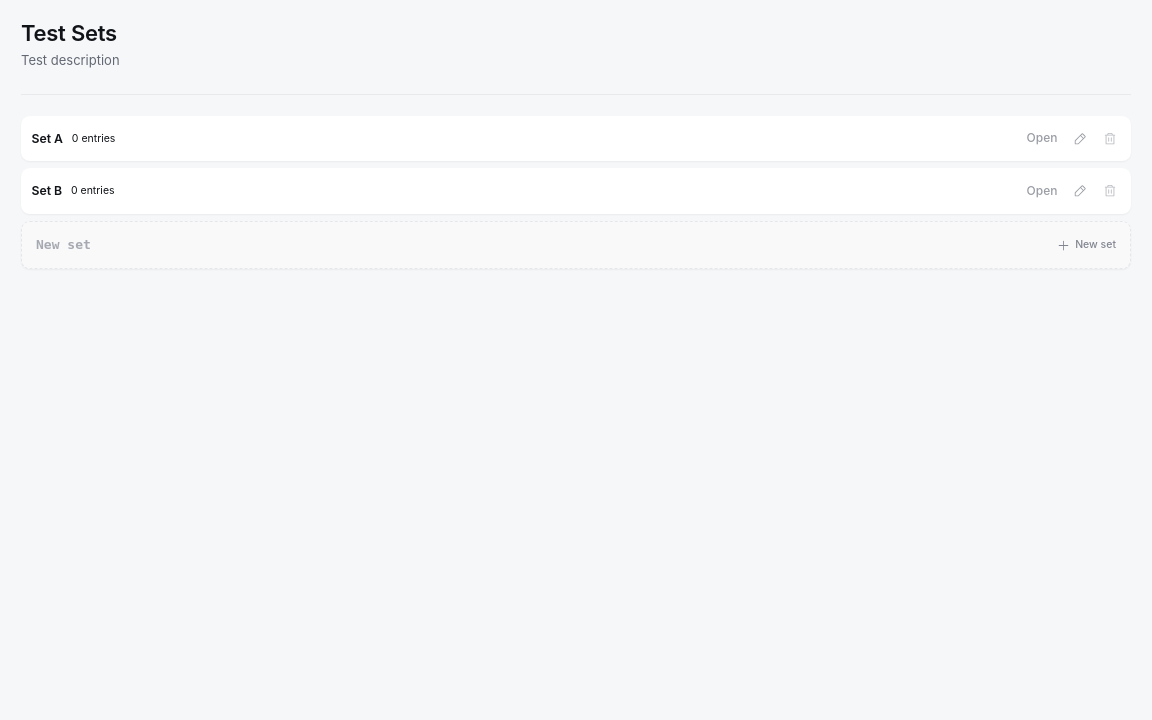
Test case: SetManagementPage – delete › removes only the deleted set, leaving others in place
What coordinates should you click on to do the following:
click the button named "Delete set" in the row of "Set A"
I would click on:
 (1110, 139)
Its box is left=1096, top=125, right=1124, bottom=153.
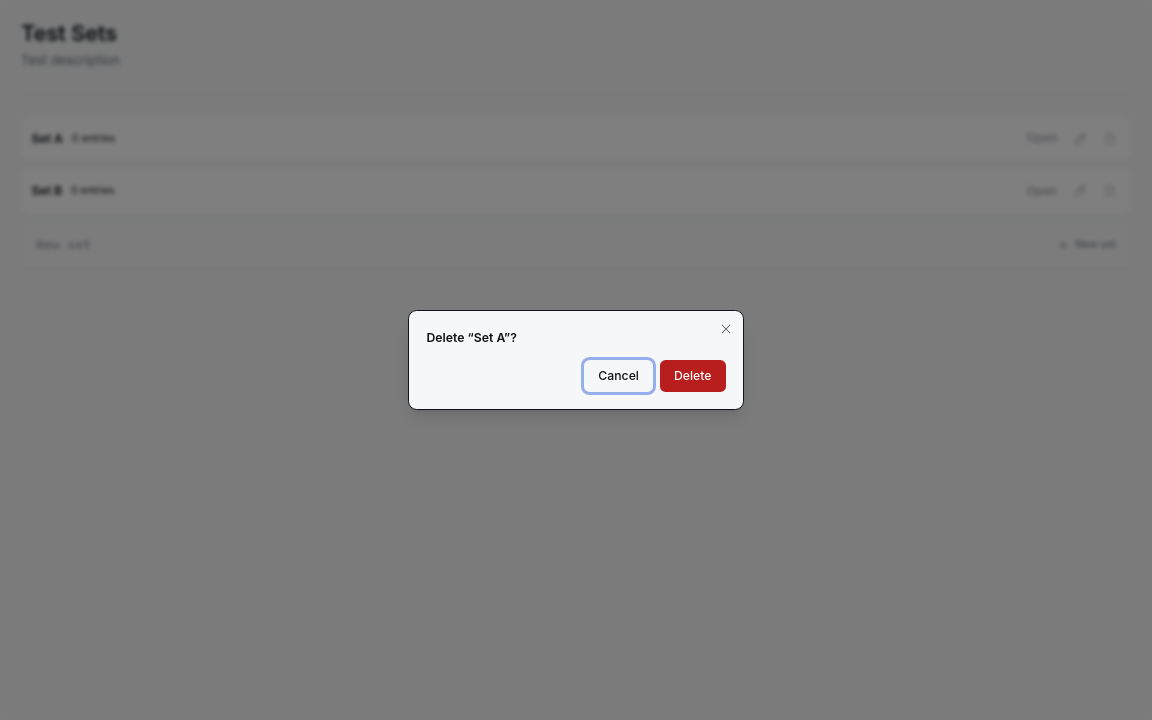
What coordinates should you click on to do the following:
click the button "Delete"
I would click on:
 (693, 376)
Its box is left=660, top=360, right=726, bottom=392.
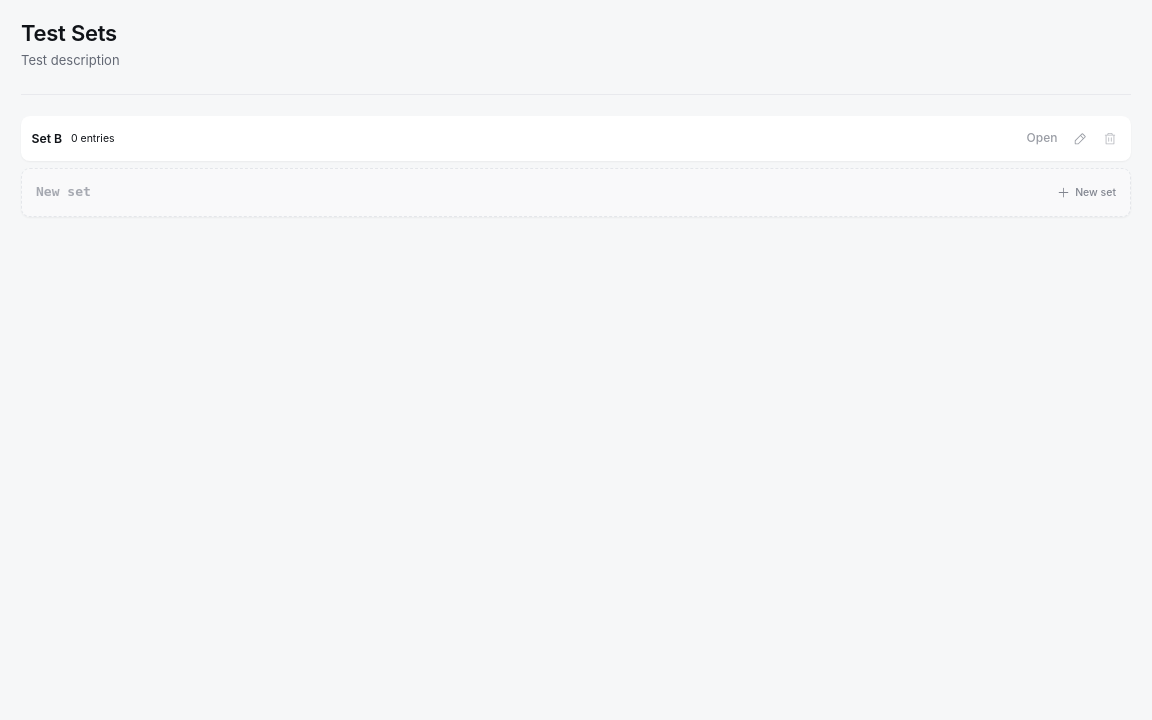
Expected: the text "Set B" is shown, left=32, top=130, right=62, bottom=147
Result: the text "Set A" is gone
